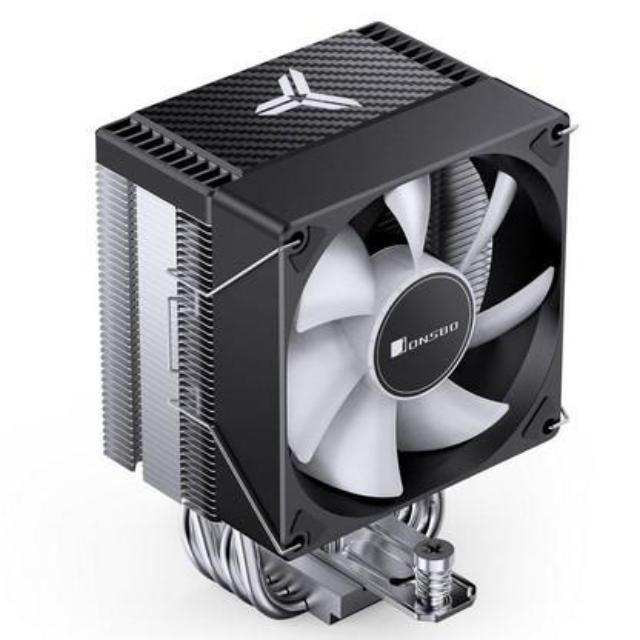CPU_Fan: (77, 8, 574, 630)
